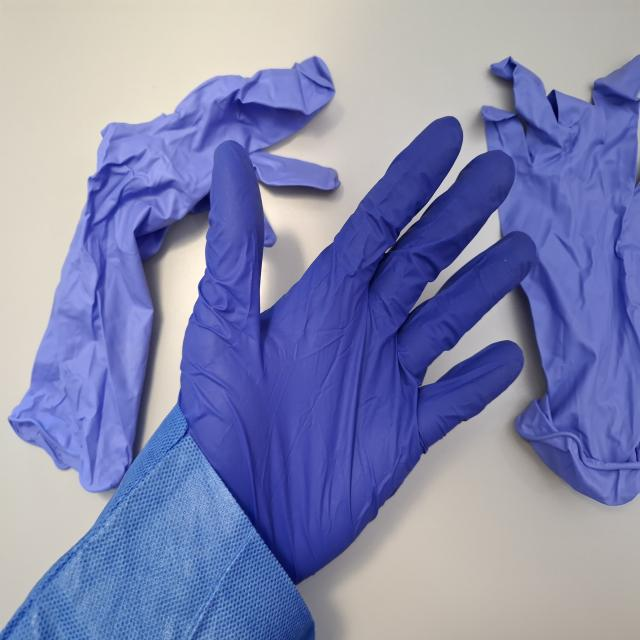glove_on: (170, 113, 540, 586)
